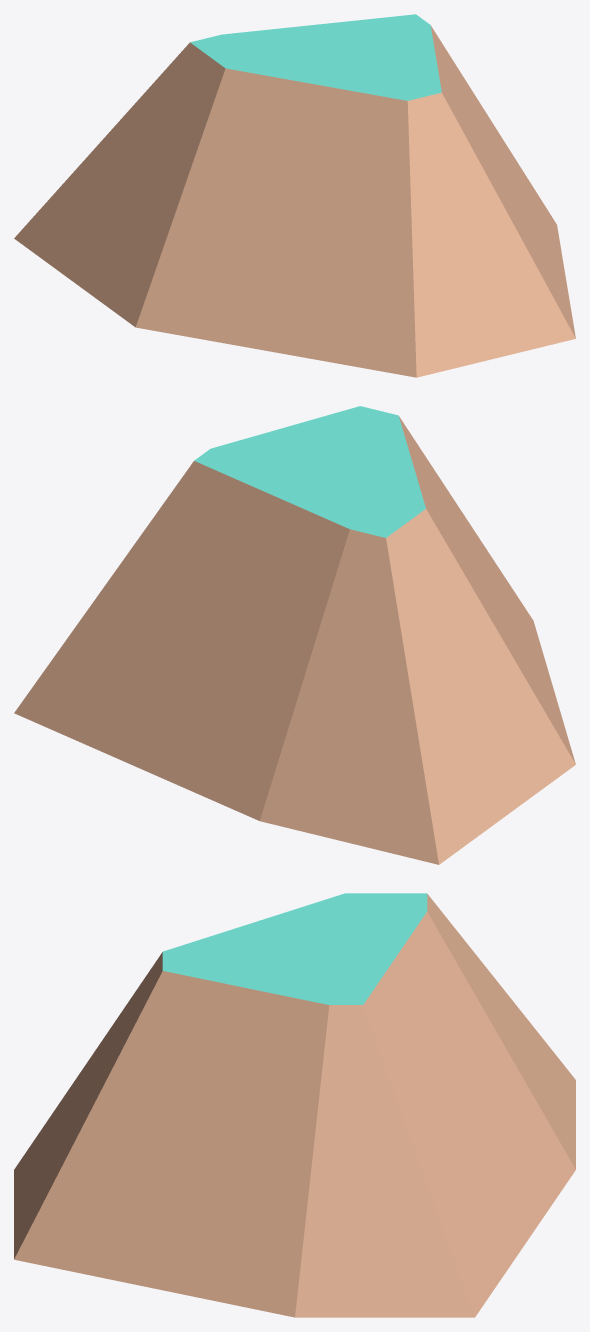
Rendered from rock_smallB.glb.
3 views of the same model, one above another, from view 1: azimuth 30°, elevation 25°; view 2: azimuth 150°, elevation 25°; view 3: azimuth 270°, elevation 25° (orthographic). The views are drawn at different scales.
Parts seen in each view (by area): view 1: rock_smallB; view 2: rock_smallB; view 3: rock_smallB.
Boxes of the visible parts, <box> form: rock_smallB: <box>14,14,575,377</box>; rock_smallB: <box>14,406,575,864</box>; rock_smallB: <box>14,893,575,1317</box>.
Size of the model in its own units: 0.3608 by 0.1768 by 0.3608.
